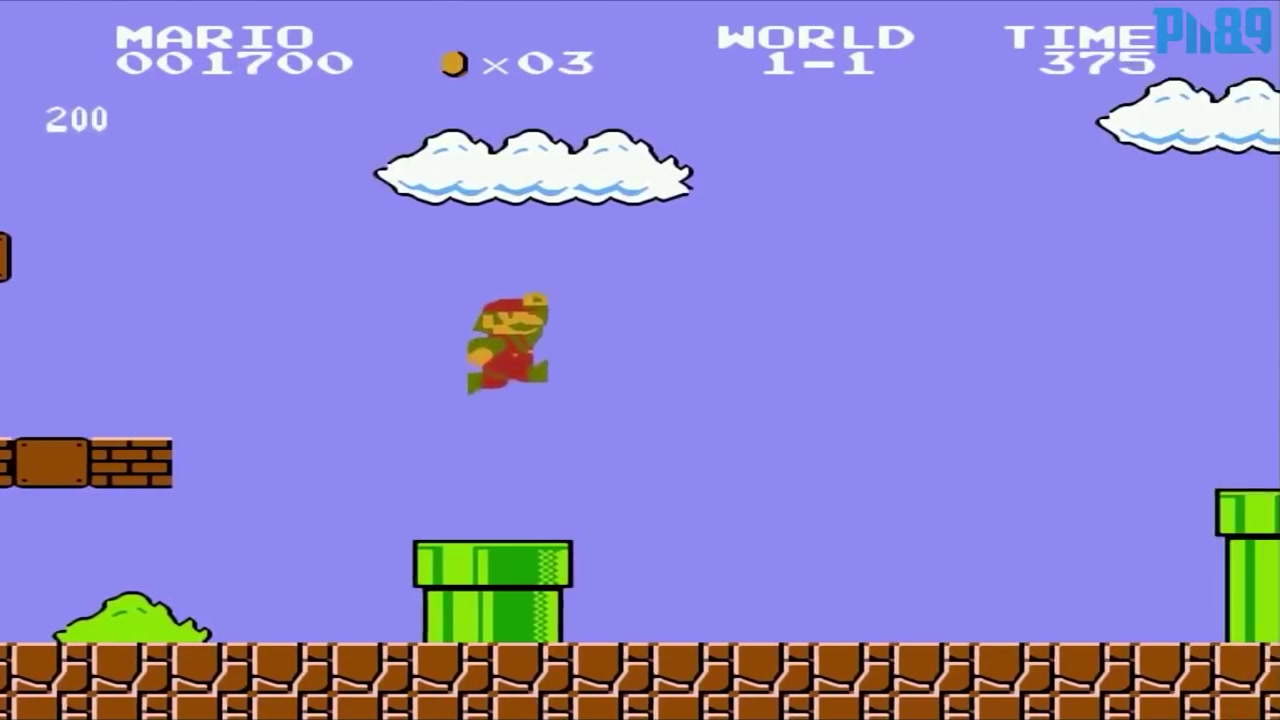mario: (455, 284, 555, 402)
